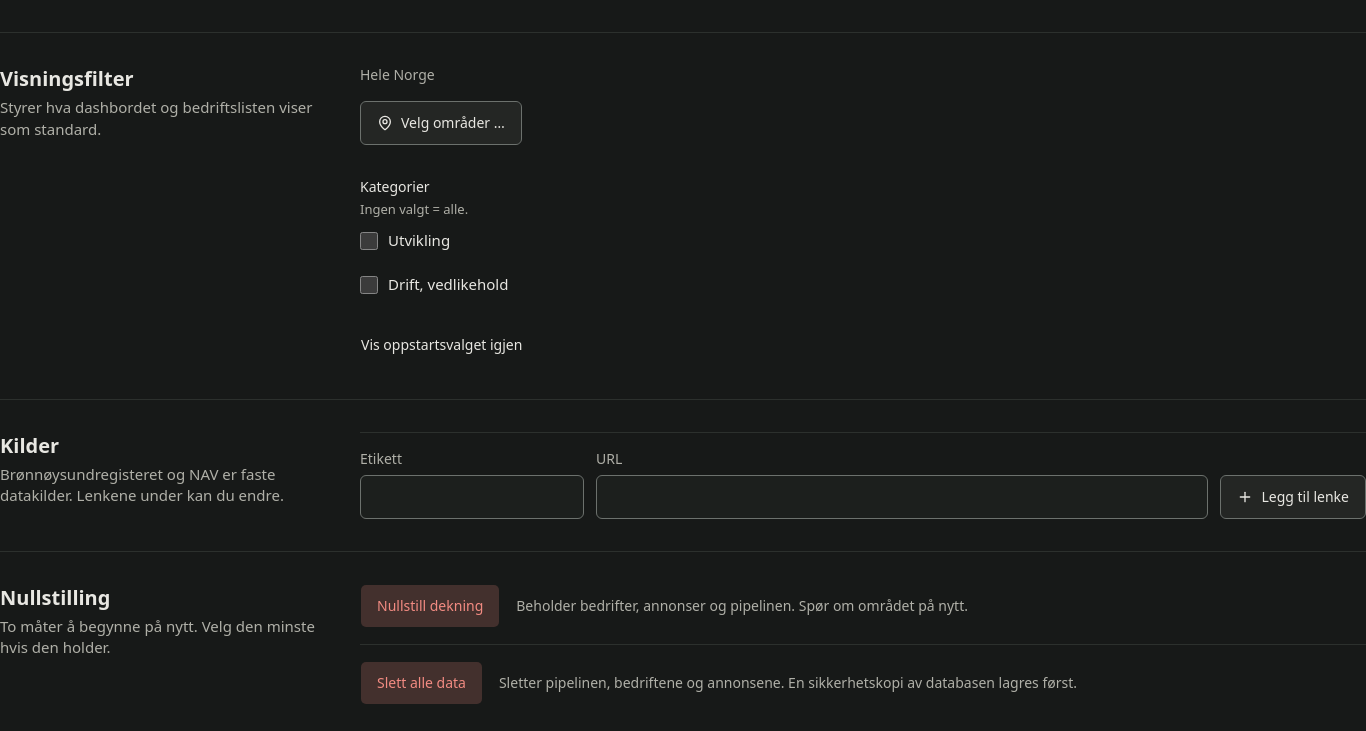
SettingsView › a source added here also appears in the dashboard card, via the shared query cache
This screenshot has width=1366, height=731.
(page scrolled)
Expected: the button "Legg til lenke" is shown, [1220,475,1365,519]
Type "Vitae" into the field labelled "Etikett". click: point(472, 497)
box: [360,475,584,519]
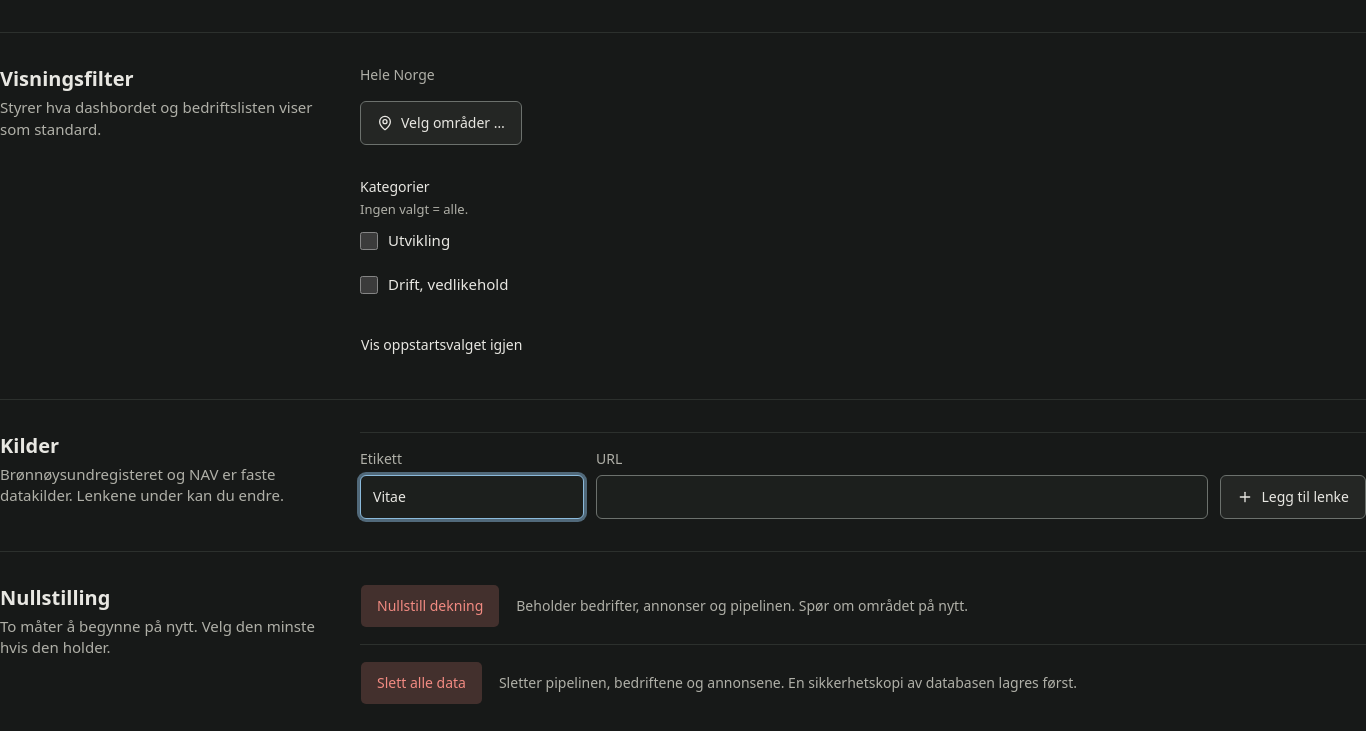
Type "https://vitae.no" into the field labelled "URL". click: point(902, 497)
box: [596,475,1208,519]
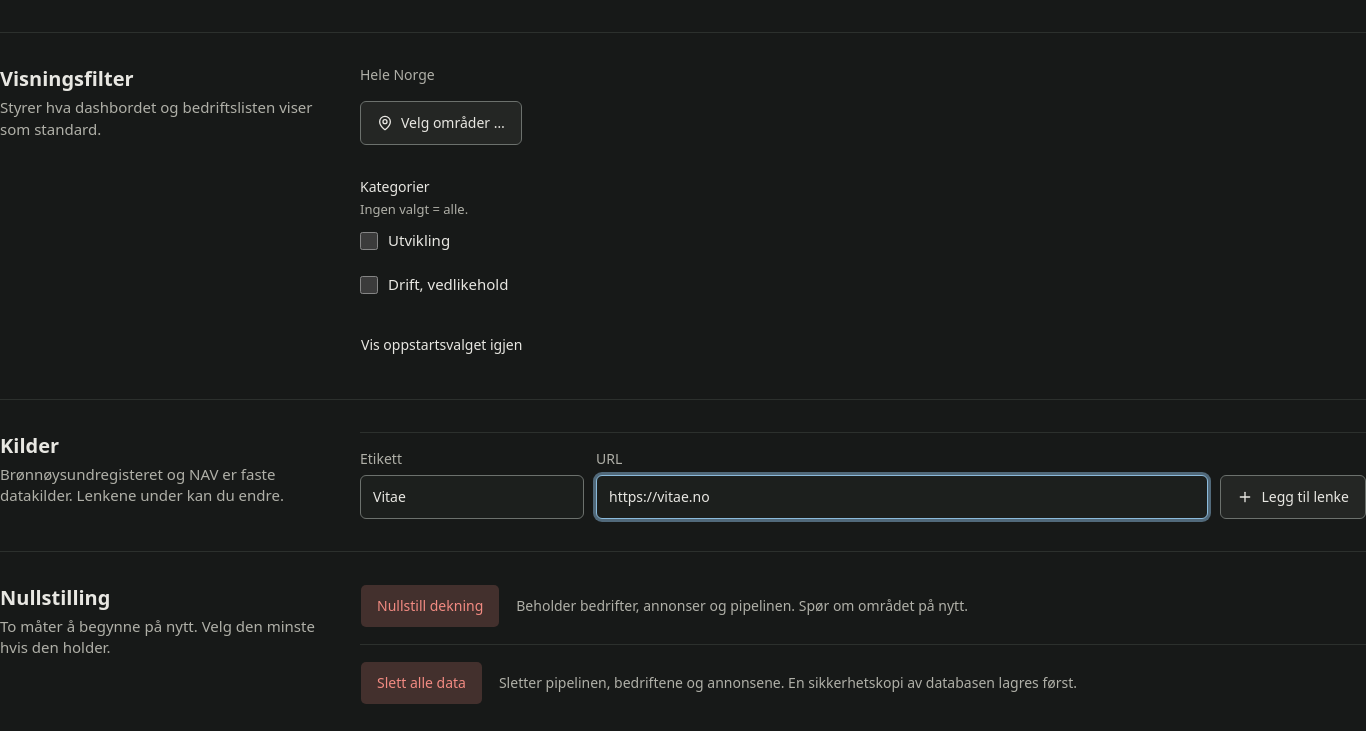
Click the button "Legg til lenke". click: point(1293, 497)
box: [1220,475,1365,519]
(page scrolled)
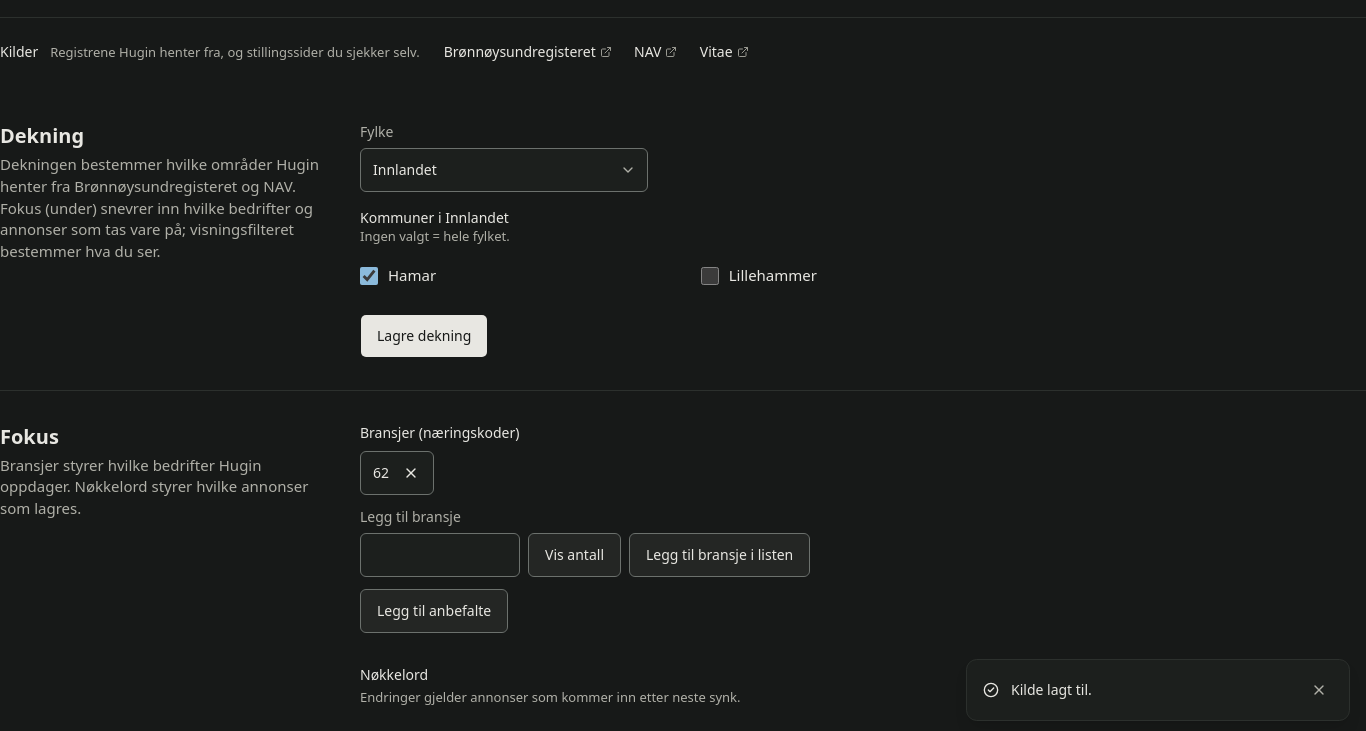
Expected: the link "Vitae" is shown, [700,42,748,61]
